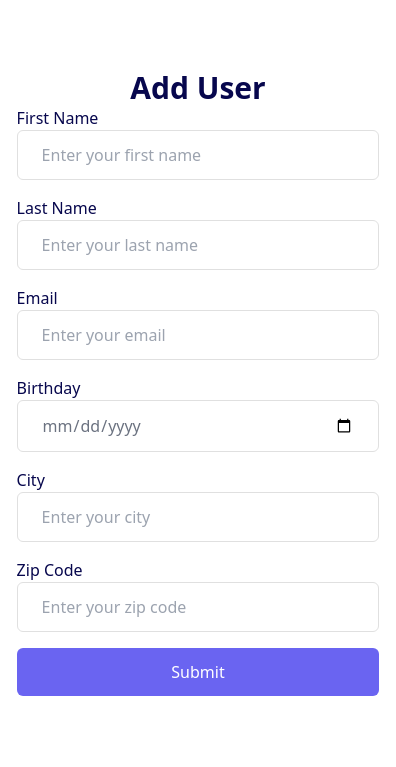
Test: Page › should show error for empty first name
Click the button with test id "submit_button" at (198, 672), box 17,648 -> 379,696
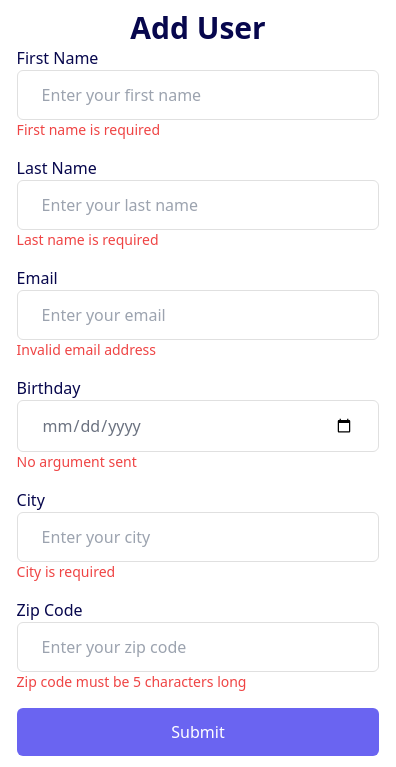
Expected: the text "First name is required" is shown, 17,120 -> 160,139
